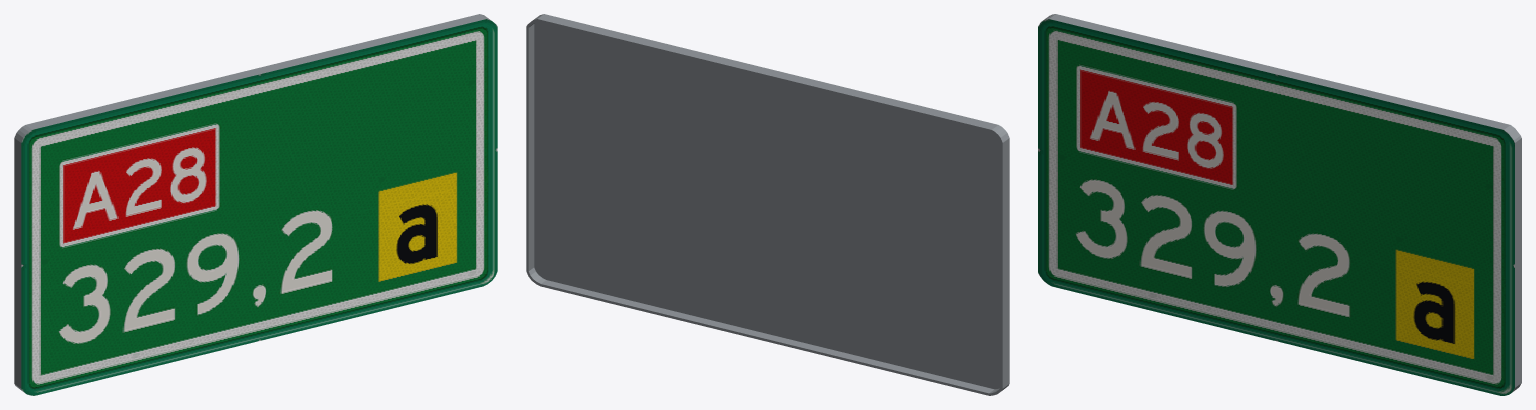
The picture shows the model from 3 angles, left to right: view 1: azimuth 30°, elevation 25°; view 2: azimuth 150°, elevation 25°; view 3: azimuth 330°, elevation 25°; orthographic projection.
Visible parts, largest first — view 1: cat_80e8188e1d12710c; view 2: cat_80e8188e1d12710c; view 3: cat_80e8188e1d12710c.
Part boxes in pixels (x1,y1,x2,y2): cat_80e8188e1d12710c: (14,14,497,395); cat_80e8188e1d12710c: (526,14,1009,395); cat_80e8188e1d12710c: (1038,14,1521,395).
Size of the model in its own units: 0.6 by 0.015 by 0.3208.
2 materials, 1 textured.
